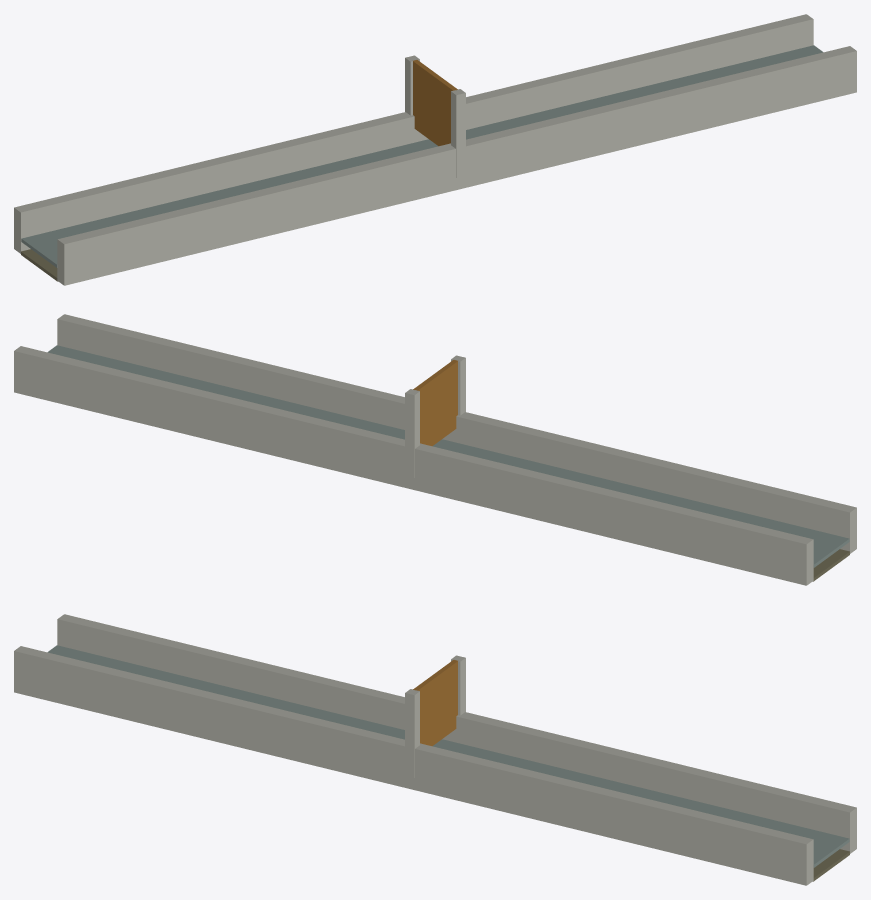
File: SM_Acequia_v2_Compuerta_LOD0.fbx
3 views of the same model, one above another, from view 1: azimuth 30°, elevation 25°; view 2: azimuth 150°, elevation 25°; view 3: azimuth 330°, elevation 25° (orthographic).
Visible parts, largest first — view 1: SM_huerta_nules_v17_LOD0; view 2: SM_huerta_nules_v17_LOD0; view 3: SM_huerta_nules_v17_LOD0.
Part boxes in pixels (<box>): SM_huerta_nules_v17_LOD0: <box>14,14,856,285</box>; SM_huerta_nules_v17_LOD0: <box>14,314,856,585</box>; SM_huerta_nules_v17_LOD0: <box>14,614,856,885</box>.
Bounding box in the file's own units: 10 × 1.16 × 1.12.
